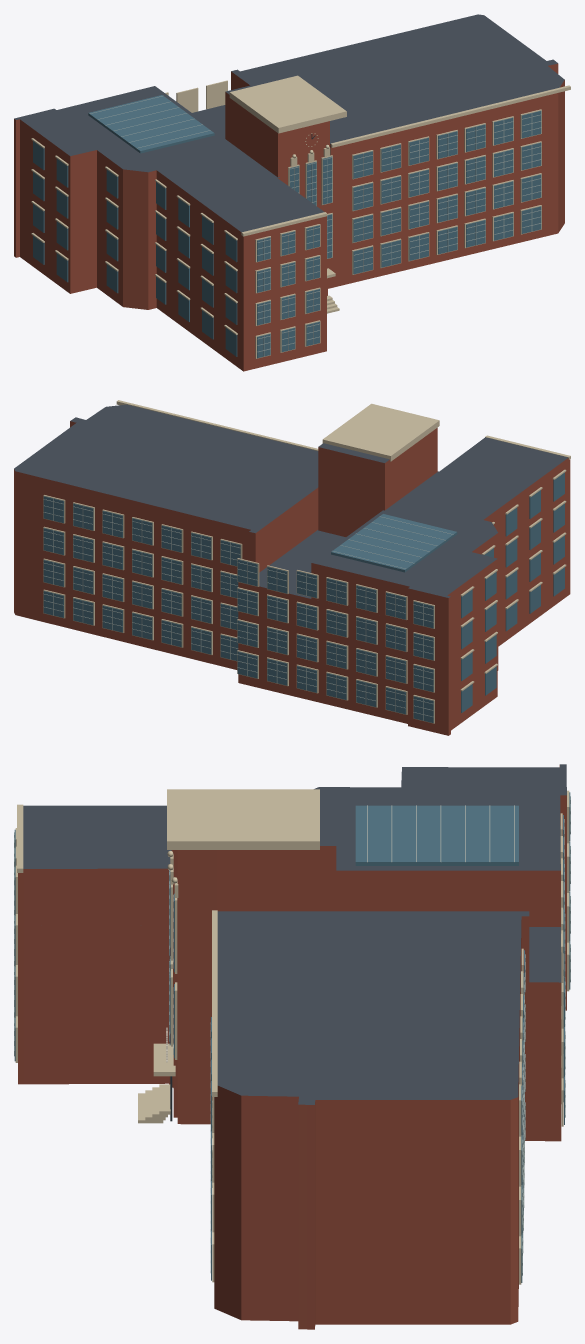
The model's file is lab111.glb.
The picture shows the model from 3 angles, top to bottom: view 1: azimuth 30°, elevation 25°; view 2: azimuth 150°, elevation 25°; view 3: azimuth 270°, elevation 25°; orthographic projection. The views are drawn at different scales.
Visible parts, largest first — view 1: lab111; view 2: lab111; view 3: lab111.
Part boxes in pixels (left/top/right/bottom): lab111: left=14, top=14, right=570, bottom=371; lab111: left=14, top=400, right=570, bottom=735; lab111: left=14, top=764, right=570, bottom=1329.
Size of the model in its own units: 55.8 by 21.9 by 37.53.
